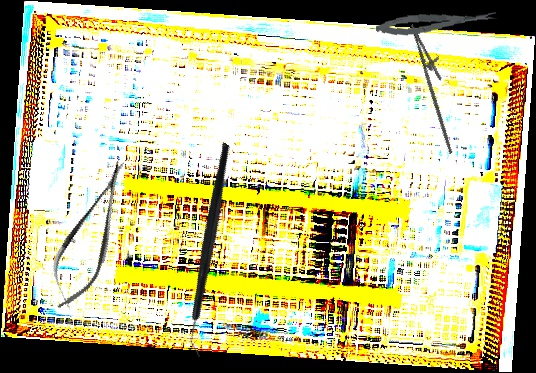Chopper: (123, 141, 301, 359)
Micro Scissor: (36, 152, 146, 318), (375, 7, 498, 39)
Needle Holder: (395, 19, 477, 155)
